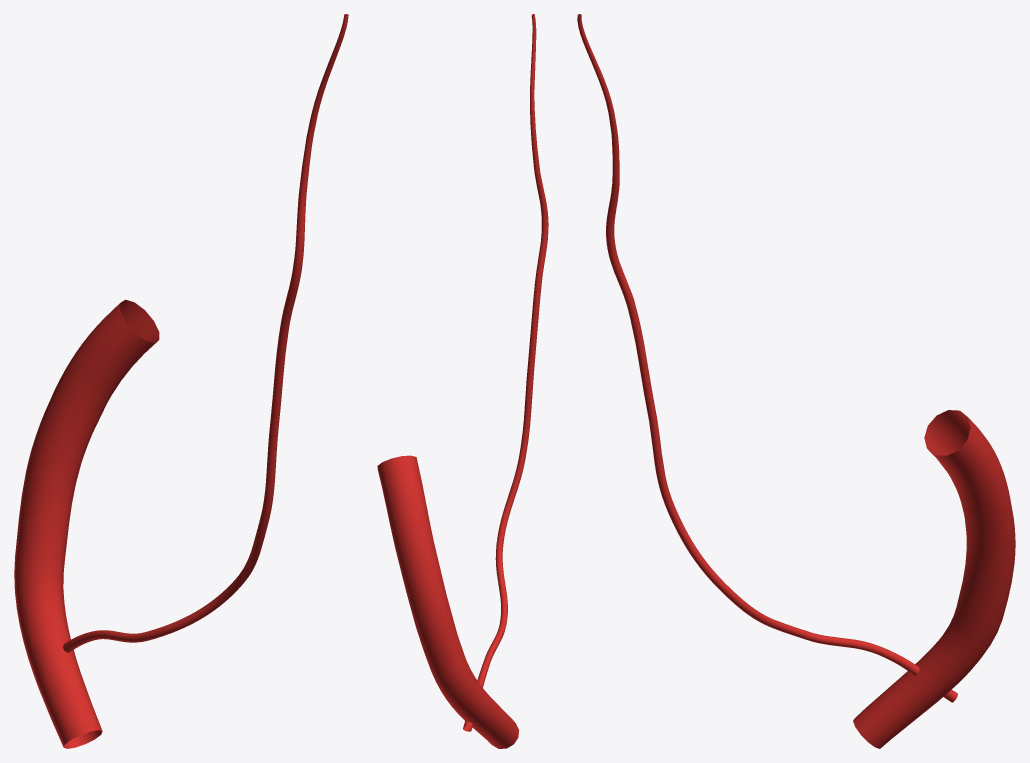
Rendered from circulatorio-external-iliac-artery-r.glb.
The picture shows the model from 3 angles, left to right: view 1: azimuth 30°, elevation 25°; view 2: azimuth 150°, elevation 25°; view 3: azimuth 270°, elevation 25°; orthographic projection. The views are drawn at different scales.
Parts seen in each view (by area): view 1: External iliac artery.r, Inferior epigastric artery.r; view 2: External iliac artery.r, Inferior epigastric artery.r; view 3: External iliac artery.r, Inferior epigastric artery.r.
Part boxes in pixels (left/top/right/bottom): External iliac artery.r: left=14, top=299, right=159, bottom=748; Inferior epigastric artery.r: left=63, top=14, right=348, bottom=652; External iliac artery.r: left=377, top=455, right=519, bottom=748; Inferior epigastric artery.r: left=463, top=14, right=548, bottom=731; External iliac artery.r: left=853, top=410, right=1015, bottom=748; Inferior epigastric artery.r: left=577, top=14, right=957, bottom=702.
Size of the model in its own units: 0.0349 by 0.1992 by 0.1009.
